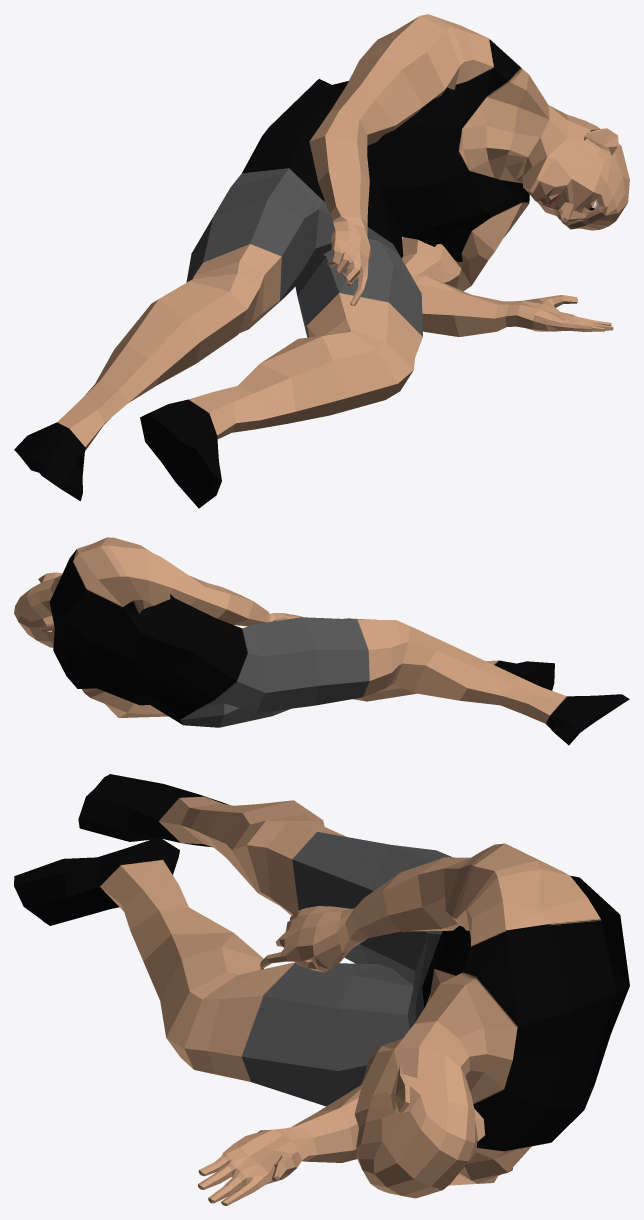
Rendered from PlayerDead(65).obj.
3 renders of one model, top to bottom at view 1: azimuth 30°, elevation 25°; view 2: azimuth 150°, elevation 25°; view 3: azimuth 270°, elevation 25°, orthographic. The views are drawn at different scales.
Parts seen in each view (by area): view 1: Plane002; view 2: Plane002; view 3: Plane002.
Boxes of the visible parts, x1,y1,x2,y2 form: Plane002: (14,14,629,508); Plane002: (14,537,629,745); Plane002: (14,774,629,1205).
Bounding box in the file's own units: 1604 × 548 × 943.
